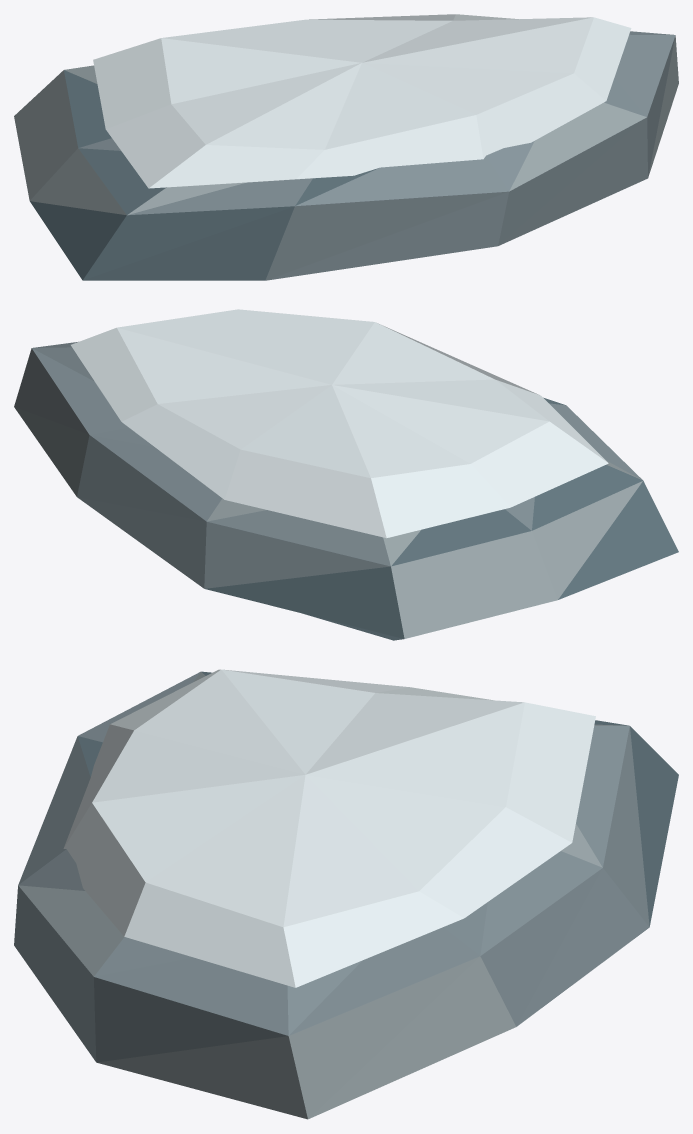
The model's file is ROCK_05_FlatBoulder.glb.
3 views of the same model, one above another, from view 1: azimuth 30°, elevation 25°; view 2: azimuth 150°, elevation 25°; view 3: azimuth 270°, elevation 25° (orthographic). The views are drawn at different scales.
Parts seen in each view (by area): view 1: ROCK_05_FlatBoulder; view 2: ROCK_05_FlatBoulder; view 3: ROCK_05_FlatBoulder.
Part boxes in pixels (box(x1,y1,x2,y2)): ROCK_05_FlatBoulder: box(14, 14, 678, 280); ROCK_05_FlatBoulder: box(14, 309, 678, 640); ROCK_05_FlatBoulder: box(14, 669, 678, 1119).
Size of the model in its own units: 3.67 by 0.775 by 2.47.
